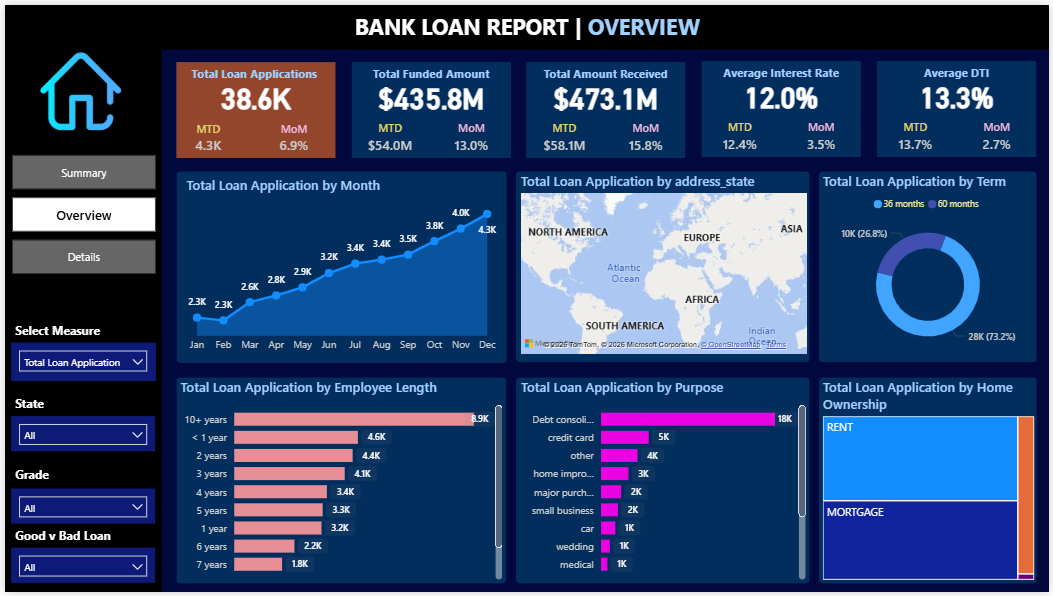

This screenshot's page, from the dashboard's own definition file:
{"tool":"powerbi","page":{"name":"Overview","canvas":[1280,720],"ordinal":1},"visuals":[{"type":"shape","box":[0,55,192,665],"z":0},{"type":"shape","box":[854.2,69.3,195,117.5],"z":0,"group":"g4"},{"type":"shape","box":[1069.4,69.3,195,117.5],"z":0,"group":"g5"},{"type":"shape","box":[425.2,69.4,195,117.5],"z":0,"group":"g2"},{"type":"shape","box":[639.4,69.4,195,117.5],"z":0,"group":"g3"},{"type":"shape","box":[210.4,70,195,117.5],"z":0,"group":"g1"},{"type":"card","fields":{"Values":["bank_loan_data.Avg Interest Rate"]},"box":[854.2,88.7,195,45.6],"z":1000,"group":"g4"},{"type":"card","fields":{"Values":["bank_loan_data.Avg DTI"]},"box":[1069.4,88.7,195,45.6],"z":1000,"group":"g5"},{"type":"card","fields":{"Values":["bank_loan_data.Total Funded Amount"]},"box":[425.2,88.8,195,45.6],"z":1000,"group":"g2"},{"type":"card","fields":{"Values":["bank_loan_data.Total Amount Received"]},"box":[639.4,88.8,195,45.6],"z":1000,"group":"g3"},{"type":"card","fields":{"Values":["bank_loan_data.Total Loan Application"]},"box":[210.4,89.4,195,45.6],"z":1000,"group":"g1"},{"type":"shape","box":[209.7,204.2,405,235],"z":1000},{"type":"shape","box":[0,0,1280,55],"z":2000},{"type":"textbox","box":[854,69.6,195.1,30],"z":2000,"group":"g4"},{"type":"textbox","box":[1069.2,69.6,195.1,30],"z":2000,"group":"g5"},{"type":"textbox","box":[425,69.7,195.1,30],"z":2000,"group":"g2"},{"type":"textbox","box":[639.2,69.7,195.1,30],"z":2000,"group":"g3"},{"type":"textbox","box":[210.2,70.3,195.1,30],"z":2000,"group":"g1"},{"type":"textbox","box":[416.2,3.8,447.5,47.5],"z":3000},{"type":"card","title":"MTD","fields":{"Values":["bank_loan_data.MTD Avg Int Rate"]},"box":[867.4,140.1,66.4,46.4],"z":3000,"group":"g4"},{"type":"card","title":"MTD","fields":{"Values":["bank_loan_data.MTD Avg DTI"]},"box":[1082.6,140.1,66.4,46.4],"z":3000,"group":"g5"},{"type":"card","title":"MTD","fields":{"Values":["bank_loan_data.MTD Funded Amount"]},"box":[438.4,140.2,66.4,46.4],"z":3000,"group":"g2"},{"type":"card","title":"MTD","fields":{"Values":["bank_loan_data.MTD Total Amount Received"]},"box":[652.6,140.2,66.4,46.4],"z":3000,"group":"g3"},{"type":"card","title":"MTD","fields":{"Values":["bank_loan_data.MTD Loan Applications"]},"box":[224.1,142.2,50.9,45.5],"z":3000,"group":"g1"},{"type":"group","id":"g1","title":"Group 1","box":[210.2,70,195.2,117.6],"z":4000},{"type":"card","title":"MoM","fields":{"Values":["bank_loan_data.MoM Avg Int Rate"]},"box":[971.9,140.1,58.2,46.4],"z":4000,"group":"g4"},{"type":"card","title":"MoM","fields":{"Values":["bank_loan_data.MoM Avg DTI"]},"box":[1187.1,140.1,58.2,46.4],"z":4000,"group":"g5"},{"type":"card","title":"MoM","fields":{"Values":["bank_loan_data.MoM Total Funded Amount"]},"box":[542.9,140.2,58.2,46.4],"z":4000,"group":"g2"},{"type":"card","title":"MoM","fields":{"Values":["bank_loan_data.MoM Total Amount Recieved"]},"box":[757.1,140.2,58.2,46.4],"z":4000,"group":"g3"},{"type":"card","title":"MoM","fields":{"Values":["bank_loan_data.MoM Loan Application"]},"box":[329.6,142.2,50.9,45.5],"z":4000,"group":"g1"},{"type":"group","id":"g2","title":"Group 1","box":[425,69.4,194.4,118.1],"z":5000},{"type":"group","id":"g3","title":"Group 1","box":[639.2,69.4,195.5,117.3],"z":6000},{"type":"group","id":"g4","title":"Group 1","box":[854,69.3,195.8,117.5],"z":7000},{"type":"group","id":"g5","title":"Group 1","box":[1069.2,69.3,195.8,117.5],"z":8000},{"type":"slicer","fields":{"Values":["bank_loan_data.address_state"]},"box":[7.5,504.2,176.7,43.3],"z":9000},{"type":"textbox","box":[7.5,474.2,57.8,30],"z":10000},{"type":"slicer","fields":{"Values":["bank_loan_data.grade"]},"box":[7.5,592.4,176.7,43.3],"z":11000},{"type":"textbox","box":[7.5,560.1,65.6,30],"z":12000},{"type":"slicer","fields":{"Values":["bank_loan_data.Good v Bad Loan"]},"box":[7.5,665.4,176.7,43.3],"z":13000},{"type":"textbox","box":[7.5,635,137.1,30],"z":14000},{"type":"areaChart","fields":{"Y":["bank_loan_data.Total Loan Application"],"Category":["Date Table.Month"]},"box":[217.1,208.6,391.4,225.7],"z":15000},{"type":"slicer","fields":{"Values":["Select Measure.Select Measure"]},"box":[7.5,413.6,177.1,47.1],"z":16000},{"type":"textbox","box":[7.5,383.6,137.1,30],"z":17000},{"type":"shape","box":[625.7,204.3,360,234.3],"z":18000},{"type":"filledMap","fields":{"X":["bank_loan_data.Total Loan Application"],"Category":["bank_loan_data.address_state"]},"box":[627.1,204.3,360,230],"z":19000},{"type":"shape","box":[997.1,204.3,267.1,234.3],"z":20000},{"type":"donutChart","fields":{"Y":["bank_loan_data.Total Loan Application"],"Category":["bank_loan_data.term"]},"box":[997.1,204.3,267.1,230],"z":21000},{"type":"shape","box":[210,455.7,404.3,252.9],"z":22000},{"type":"barChart","fields":{"Y":["bank_loan_data.Total Loan Application"],"Category":["bank_loan_data.emp_length"]},"box":[210,455.7,404.3,252.9],"z":23000},{"type":"shape","box":[625.7,455.7,360,252.9],"z":24000},{"type":"barChart","fields":{"Y":["bank_loan_data.Total Loan Application"],"Category":["bank_loan_data.purpose"]},"box":[627.1,455.7,358.6,252.9],"z":25000},{"type":"shape","box":[997.1,455.7,267.1,252.9],"z":26000},{"type":"treemap","fields":{"Values":["bank_loan_data.Total Loan Application"],"Group":["bank_loan_data.home_ownership"]},"box":[997.1,455.7,268.6,252.9],"z":27000},{"type":"pageNavigator","box":[8.8,183.8,176.2,146.2],"z":27001},{"type":"image","box":[37.5,51.2,110,108.8],"z":27002}]}

Visuals, with their boxes in screenshot pixels (x1, y1, x2, y2), scaled from the page's 1280x720 canvas onto the 1053x596 screenshot:
shape: 0/46/158/595
shape: 703/57/863/155
shape: 880/57/1040/155
shape: 350/57/510/155
shape: 526/57/686/155
shape: 173/58/334/155
card - bank_loan_data.Avg Interest Rate: 703/73/863/111
card - bank_loan_data.Avg DTI: 880/73/1040/111
card - bank_loan_data.Total Funded Amount: 350/74/510/111
card - bank_loan_data.Total Amount Received: 526/74/686/111
card - bank_loan_data.Total Loan Application: 173/74/334/112
shape: 173/169/506/364
shape: 0/0/1052/46
textbox: 703/58/863/82
textbox: 880/58/1040/82
textbox: 350/58/510/83
textbox: 526/58/686/83
textbox: 173/58/333/83
textbox: 342/3/711/42
"MTD" card: 714/116/768/154
"MTD" card: 891/116/945/154
"MTD" card: 361/116/415/154
"MTD" card: 537/116/591/154
"MTD" card: 184/118/226/155
"Group 1" group: 173/58/334/155
"MoM" card: 800/116/847/154
"MoM" card: 977/116/1024/154
"MoM" card: 447/116/494/154
"MoM" card: 623/116/671/154
"MoM" card: 271/118/313/155
"Group 1" group: 350/57/510/155
"Group 1" group: 526/57/687/155
"Group 1" group: 703/57/864/155
"Group 1" group: 880/57/1041/155
slicer - bank_loan_data.address_state: 6/417/152/453
textbox: 6/393/54/417
slicer - bank_loan_data.grade: 6/490/152/526
textbox: 6/464/60/488
slicer - bank_loan_data.Good v Bad Loan: 6/551/152/587
textbox: 6/526/119/550
areaChart - bank_loan_data.Total Loan Application x Date Table.Month: 179/173/501/360
slicer - Select Measure.Select Measure: 6/342/152/381
textbox: 6/318/119/342
shape: 515/169/811/363
filledMap - bank_loan_data.Total Loan Application x bank_loan_data.address_state: 516/169/812/360
shape: 820/169/1040/363
donutChart - bank_loan_data.Total Loan Application x bank_loan_data.term: 820/169/1040/360
shape: 173/377/505/587
barChart - bank_loan_data.Total Loan Application x bank_loan_data.emp_length: 173/377/505/587
shape: 515/377/811/587
barChart - bank_loan_data.Total Loan Application x bank_loan_data.purpose: 516/377/811/587
shape: 820/377/1040/587
treemap - bank_loan_data.Total Loan Application x bank_loan_data.home_ownership: 820/377/1041/587
pageNavigator: 7/152/152/273
image: 31/42/121/132
